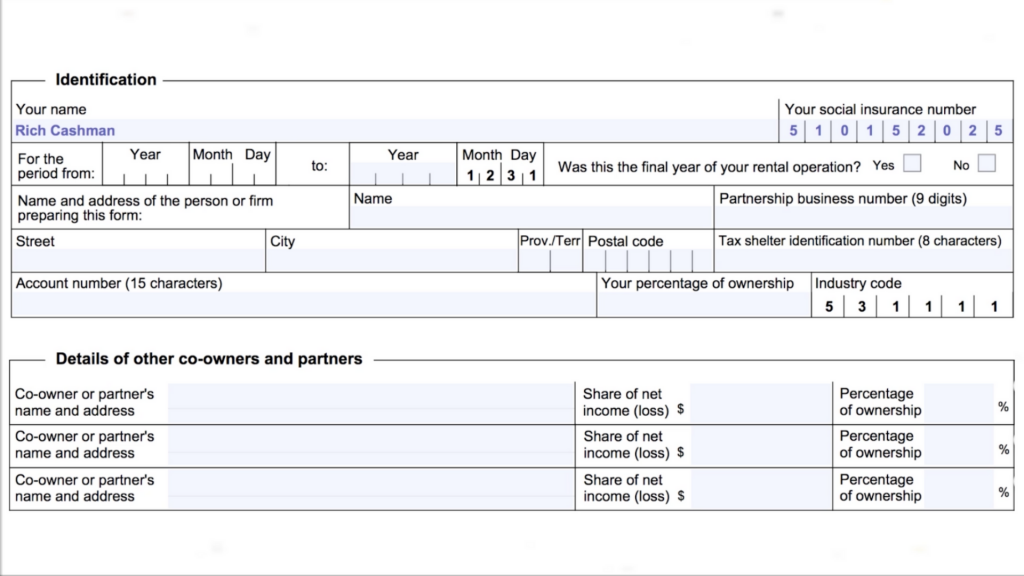checkbox: (971, 150, 1001, 176), (901, 152, 925, 175)
textbox: (8, 78, 783, 148), (5, 353, 581, 436), (2, 420, 588, 479), (3, 462, 583, 519), (5, 269, 605, 324), (560, 350, 840, 437), (342, 177, 721, 236), (773, 75, 1018, 152), (705, 179, 1018, 236), (708, 222, 1018, 279), (824, 350, 1024, 434), (569, 456, 840, 517), (566, 418, 840, 474), (259, 223, 524, 280), (7, 226, 274, 278), (586, 268, 820, 326), (805, 268, 1018, 323), (825, 417, 1017, 475), (826, 461, 1019, 516), (343, 135, 464, 191), (186, 136, 281, 190), (98, 137, 192, 189), (453, 140, 550, 189), (511, 224, 590, 278), (965, 288, 1016, 323), (933, 288, 977, 326), (903, 288, 947, 324), (866, 291, 916, 321), (541, 246, 587, 278), (808, 290, 849, 324), (836, 292, 883, 320), (515, 243, 553, 276), (953, 116, 994, 146), (878, 114, 914, 148), (826, 116, 861, 149), (666, 245, 698, 281), (931, 114, 966, 146), (982, 116, 1019, 146), (775, 114, 809, 146), (686, 243, 720, 275), (800, 115, 835, 146), (853, 115, 888, 146), (904, 116, 939, 147), (620, 247, 655, 276), (397, 164, 439, 188), (644, 246, 676, 277), (228, 159, 262, 188), (498, 159, 526, 194), (423, 164, 460, 190), (598, 247, 631, 275), (97, 162, 127, 192), (205, 164, 240, 189), (578, 246, 610, 273), (117, 165, 150, 191), (181, 162, 215, 187), (475, 164, 506, 191), (348, 166, 381, 191), (250, 161, 279, 189), (374, 166, 409, 189), (456, 160, 482, 189), (516, 163, 545, 188), (142, 165, 171, 188), (163, 165, 189, 190)
